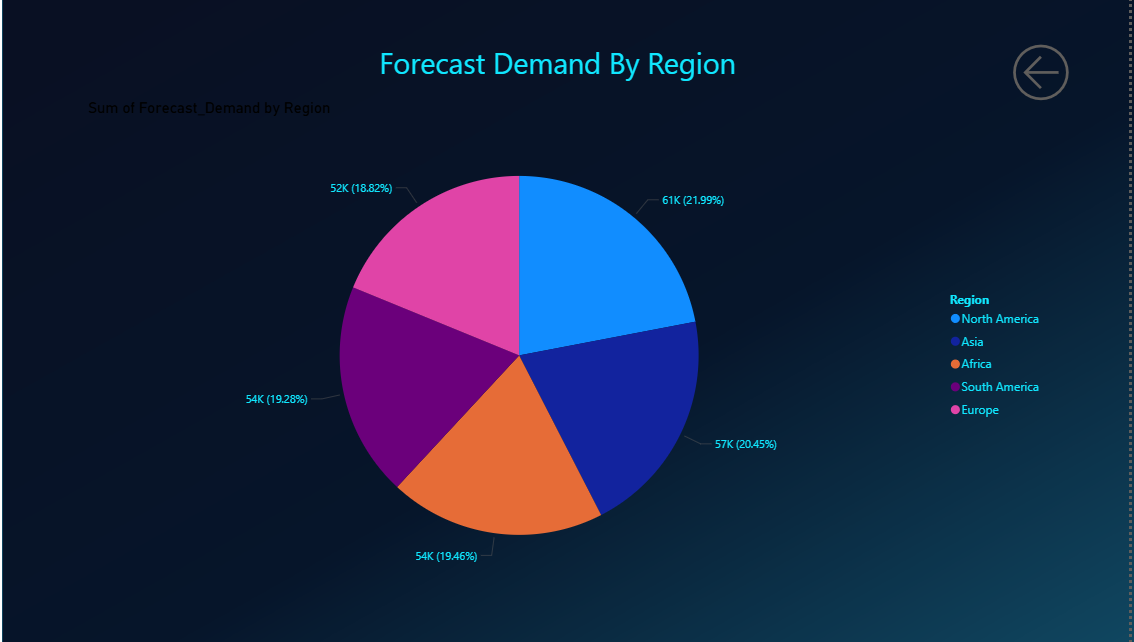

This screenshot's page, from the dashboard's own definition file:
{"tool":"powerbi","page":{"name":"Forecast","canvas":[1280,720],"ordinal":1},"visuals":[{"type":"pieChart","fields":{"Category":["Supply Chain.Region"],"Y":["Sum(Supply Chain.Forecast_Demand)"]},"box":[118.2,110.1,1076.4,550.7],"z":0},{"type":"textbox","box":[18.7,42.2,1253.5,57],"z":1000},{"type":"actionButton","box":[1143.5,42.2,128.7,77.6],"z":2000}]}

Visuals, with their boxes in screenshot pixels (x1, y1, x2, y2), scaled from the page's 1280x720 canvas onto the 1134x642 screenshot:
pieChart - Supply Chain.Region x Sum(Supply Chain.Forecast_Demand): [x1=105, y1=98, x2=1058, y2=589]
textbox: [x1=17, y1=38, x2=1127, y2=88]
actionButton: [x1=1013, y1=38, x2=1127, y2=107]
